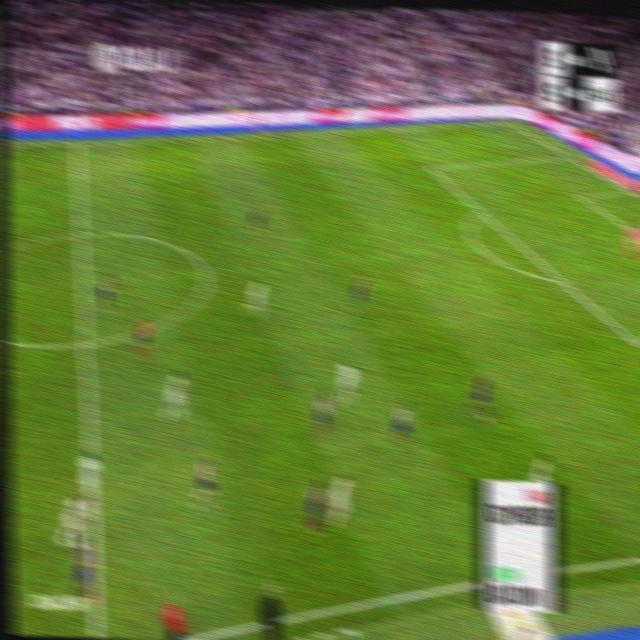bigarea_top_inner: (426, 159, 437, 175)
bigarea_top_outter: (562, 149, 574, 161)
bottom_arc_area_intersection: (554, 270, 568, 289)
corner: (504, 115, 517, 128)
halfcircle_bottom: (76, 326, 94, 360)
halfcircle_top: (71, 221, 89, 246)
smallarea_top_inner: (576, 191, 585, 201)
top_arc_area_intersection: (475, 202, 487, 219)
